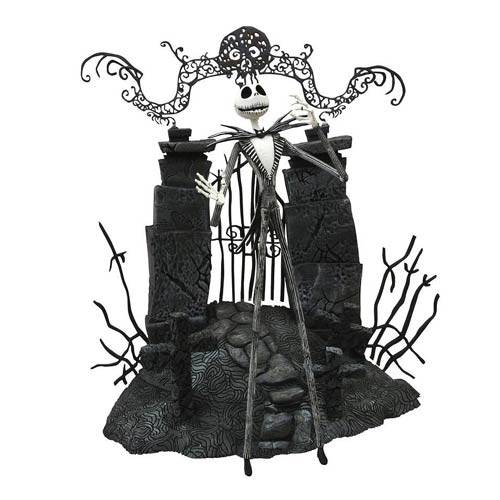Jack Skellington: (194, 83, 350, 476)
